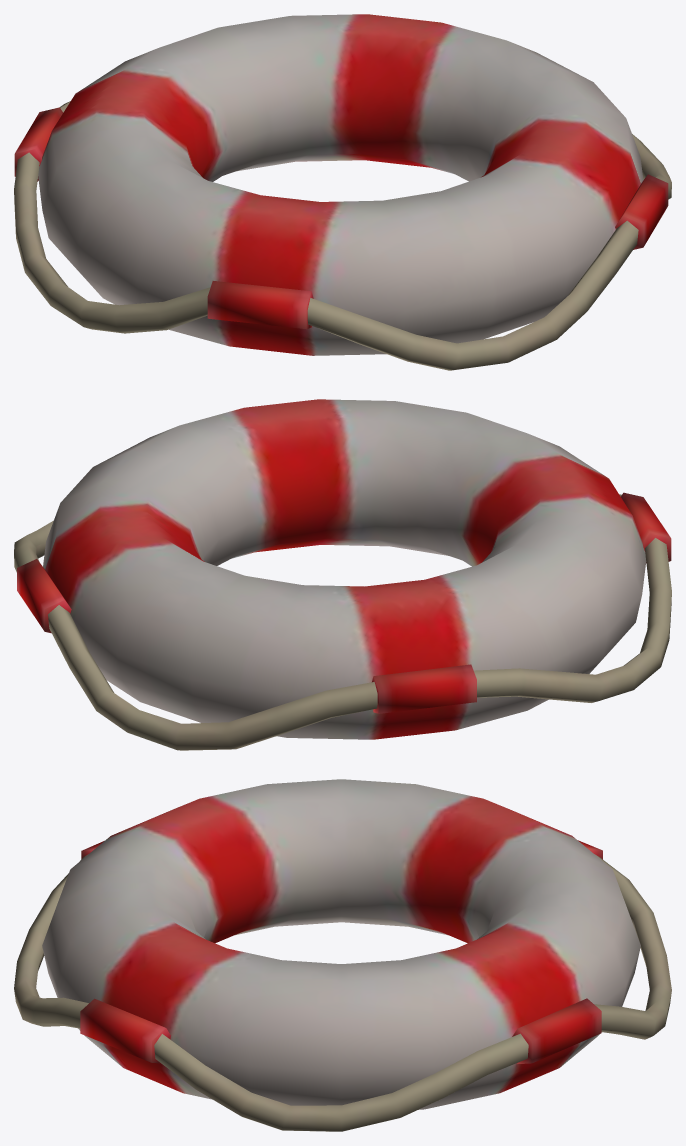
3 renders of one model, top to bottom at view 1: azimuth 30°, elevation 25°; view 2: azimuth 150°, elevation 25°; view 3: azimuth 270°, elevation 25°, orthographic. The views are drawn at different scales.
Bounding box in the file's own units: 8.41 × 1.84 × 8.27.
1 material, 1 textured.
